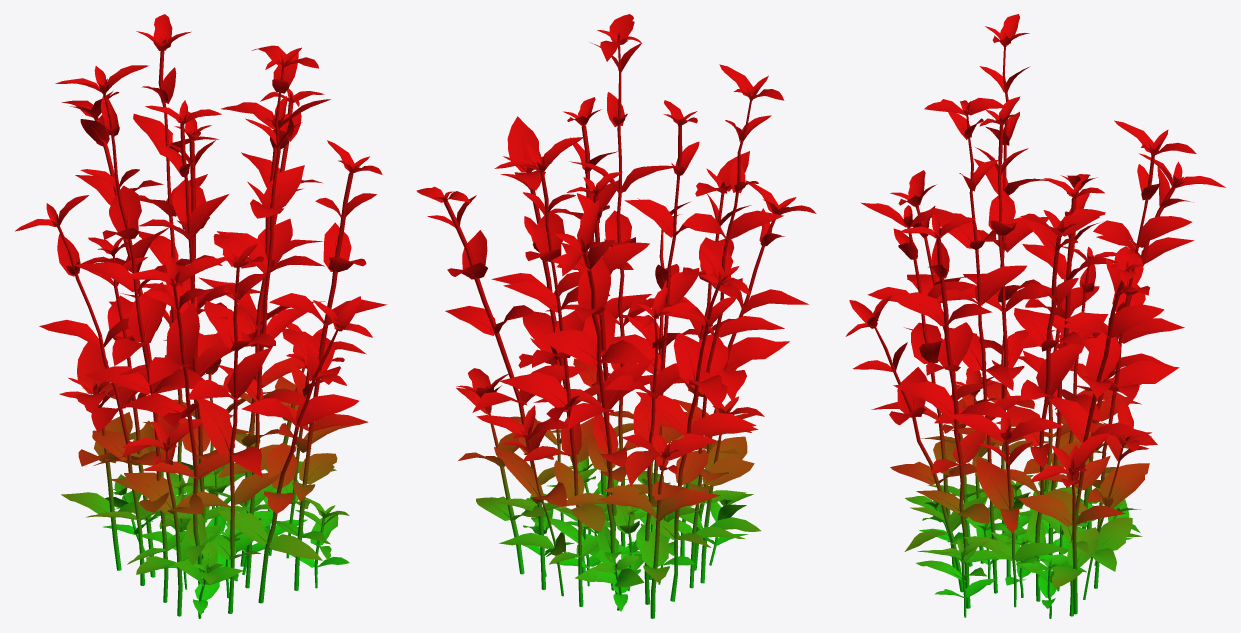
The model's file is Var1_LOD1.fbx.
3 renders of one model, left to right at view 1: azimuth 30°, elevation 25°; view 2: azimuth 150°, elevation 25°; view 3: azimuth 270°, elevation 25°, orthographic. The views are drawn at different scales.
Visible parts, largest first — view 1: _2ofk_Var1_LOD1; view 2: _2ofk_Var1_LOD1; view 3: _2ofk_Var1_LOD1.
Boxes of the visible parts, <box> form: _2ofk_Var1_LOD1: <box>15,14,387,618</box>; _2ofk_Var1_LOD1: <box>416,14,816,618</box>; _2ofk_Var1_LOD1: <box>845,14,1225,618</box>.
Bounding box in the file's own units: 37.56 × 60.08 × 40.77.
